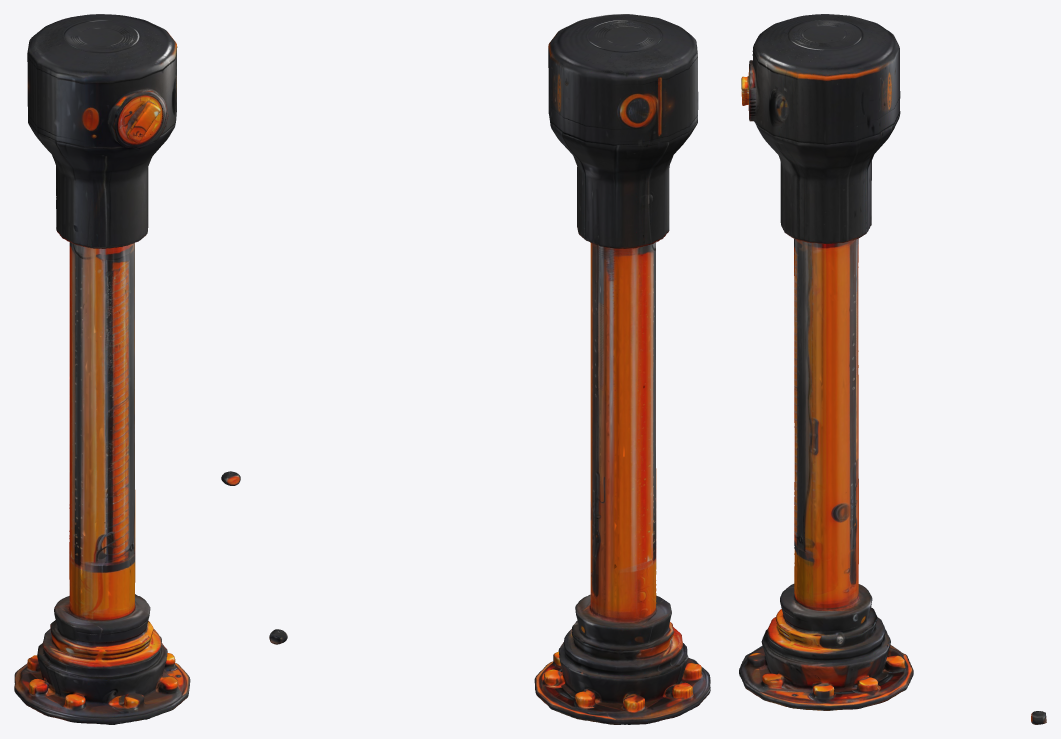
File: heater.glb
3 renders of one model, left to right at view 1: azimuth 30°, elevation 25°; view 2: azimuth 150°, elevation 25°; view 3: azimuth 270°, elevation 25°, orthographic.
Bounding box in the file's own units: 1.03 × 2 × 0.8728.
1 material, 1 textured.
